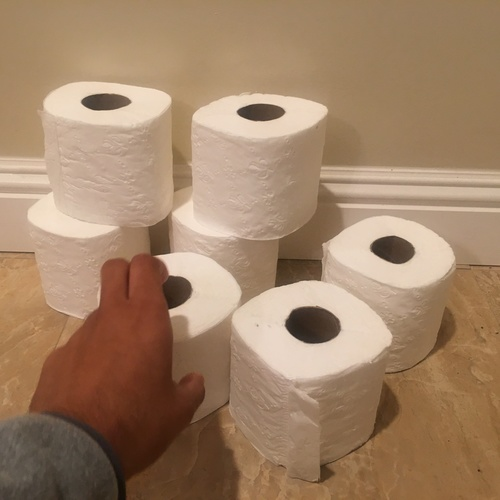roll: (231, 280, 394, 467), (98, 251, 244, 422), (323, 216, 456, 373), (191, 93, 327, 241), (40, 81, 173, 227), (28, 191, 154, 320), (168, 184, 279, 305)
